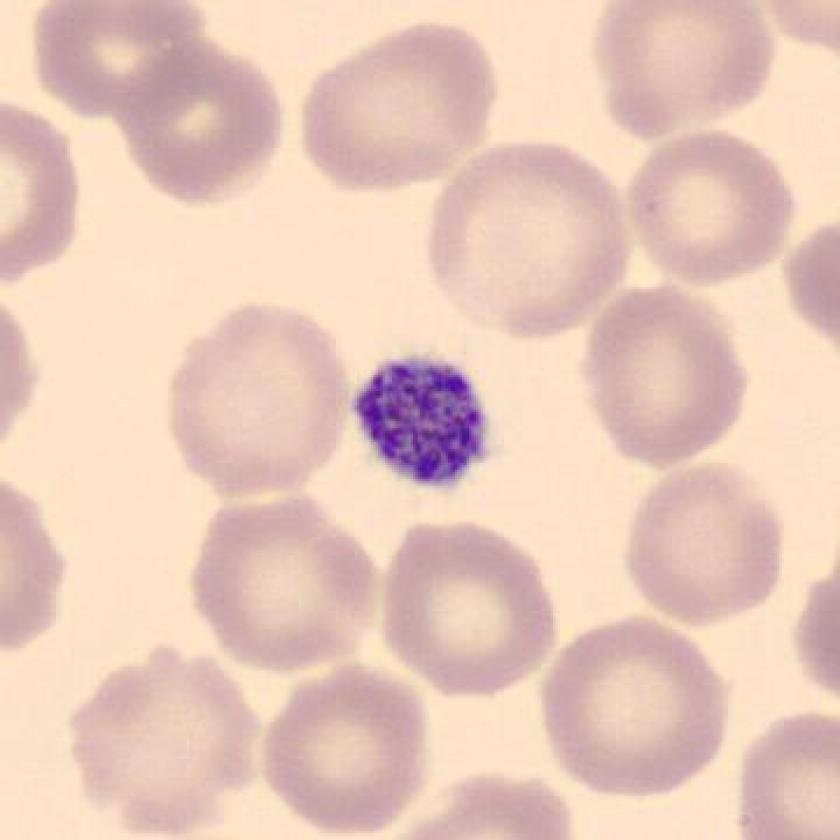platelets: (349, 350, 498, 494)
